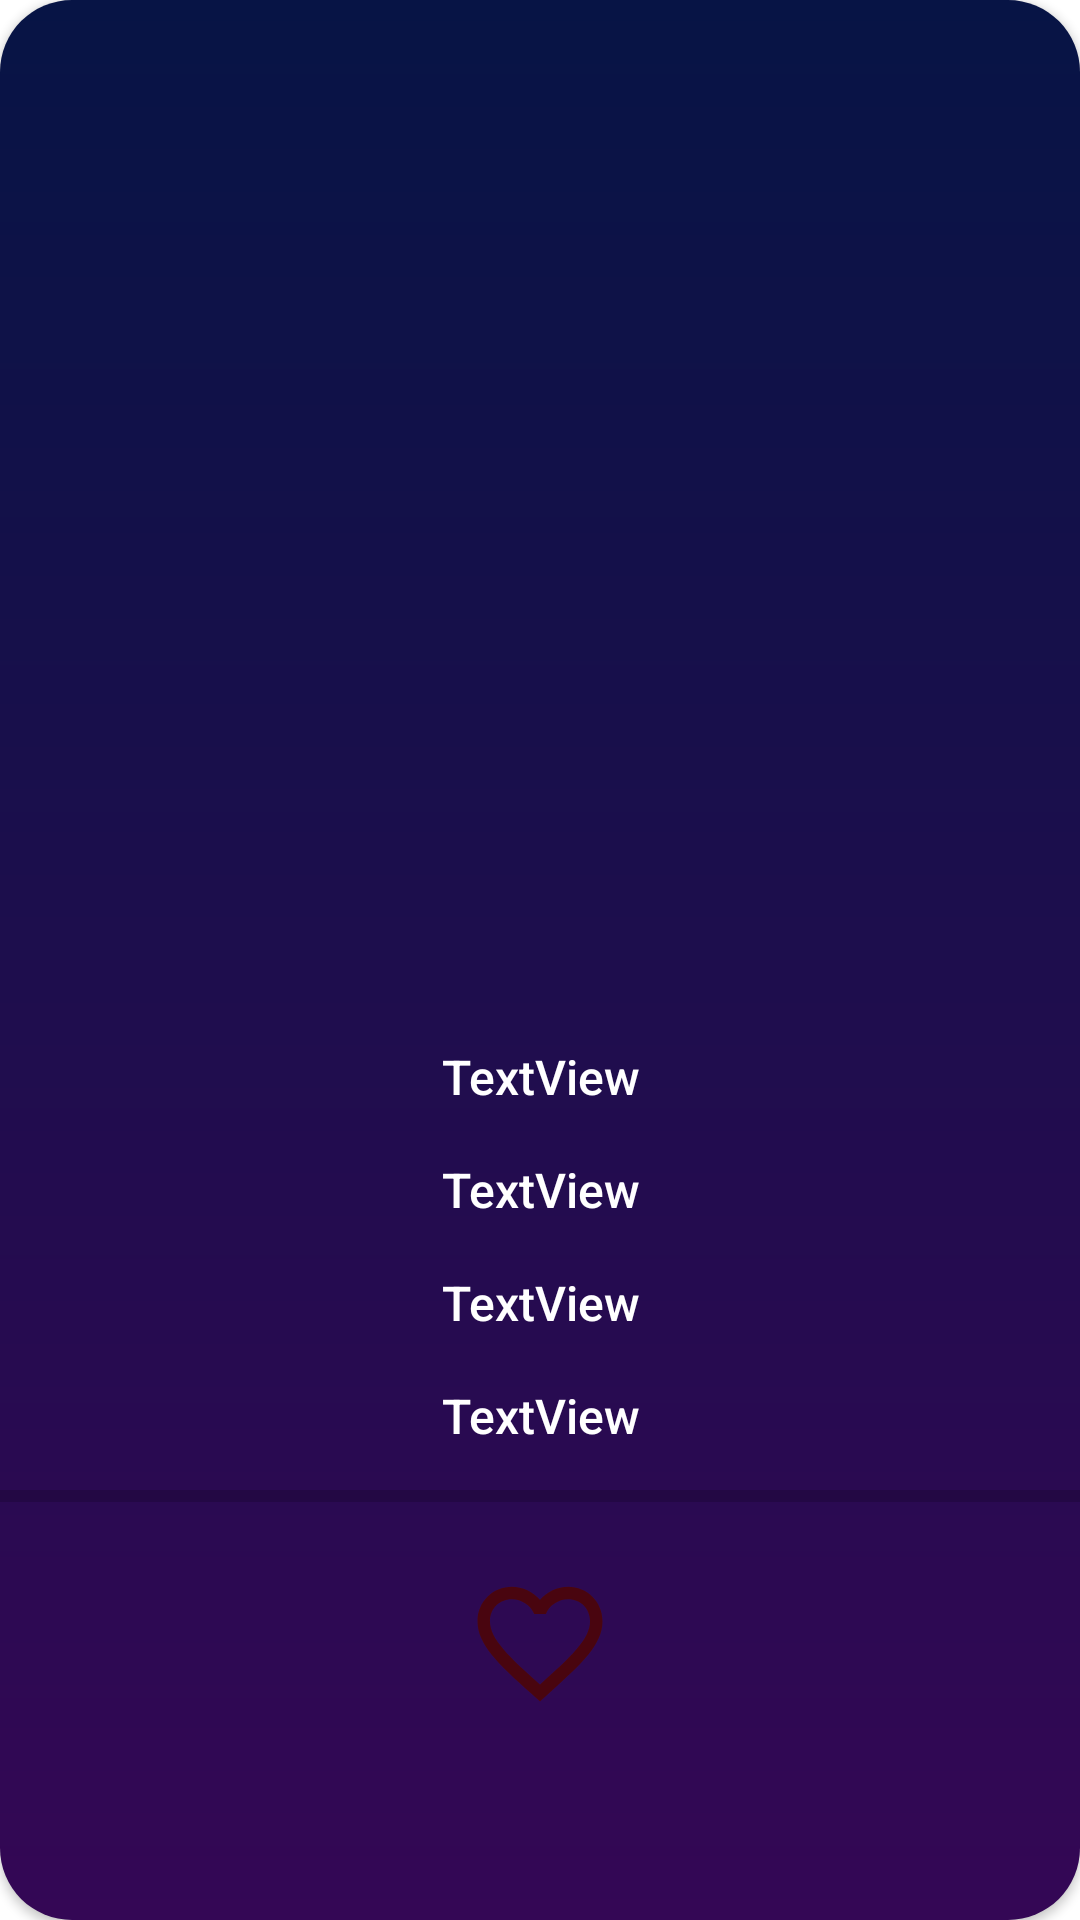

Icon bounding boxes for this 1080 × 1920 phone screenshot, format Rect(x1, y1, x2, y2):
favorite border: Rect(477, 1587, 603, 1701)
